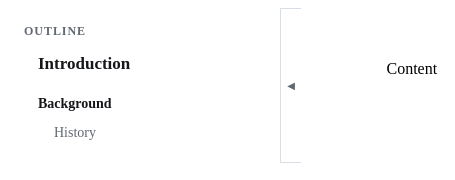
it: accessibility — heading and landmark structure › DocumentShell toggle button has aria-expanded reflecting state
Step 1. Click the button with class "kmd-outline-toggle" → (291, 85), box x1=281 y1=8 x2=301 y2=162
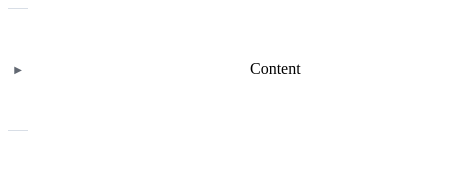
Result: the button with class "kmd-outline-toggle" is collapsed at x1=8 y1=8 x2=28 y2=130
